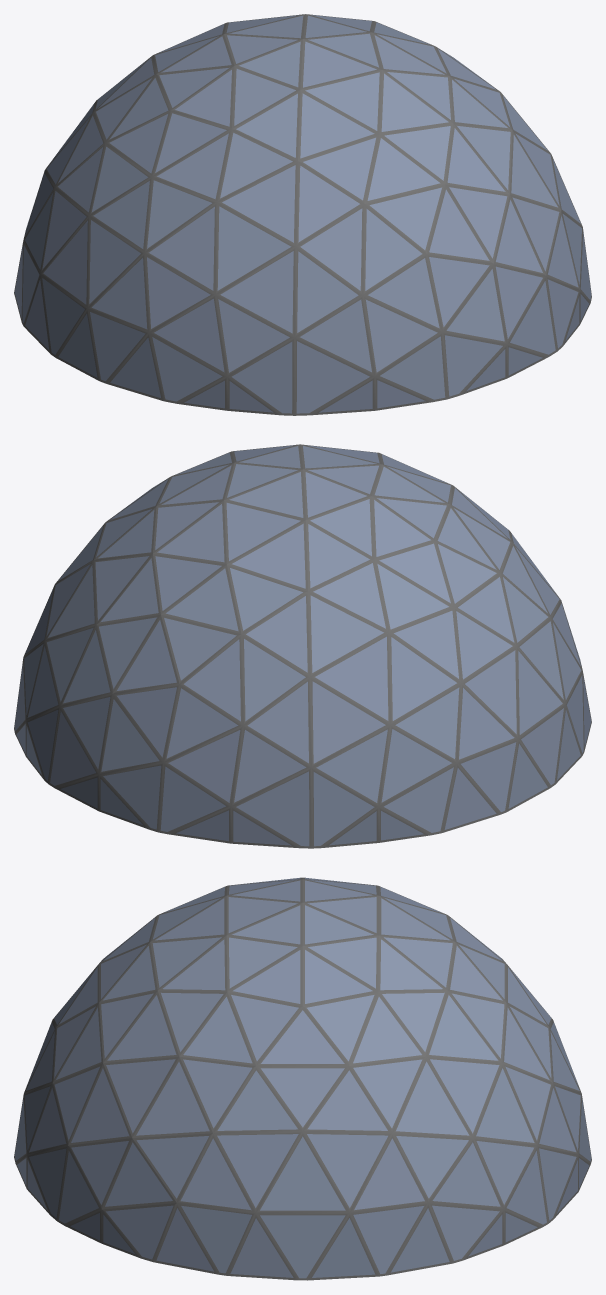
File: MOD_Dome.fbx
3 renders of one model, top to bottom at view 1: azimuth 30°, elevation 25°; view 2: azimuth 150°, elevation 25°; view 3: azimuth 270°, elevation 25°, orthographic.
Visible parts, largest first — view 1: MOD_Dome; view 2: MOD_Dome; view 3: MOD_Dome.
Part boxes in pixels (x1=…): MOD_Dome: x1=14, y1=14, x2=591, y2=415; MOD_Dome: x1=14, y1=444, x2=591, y2=848; MOD_Dome: x1=14, y1=877, x2=591, y2=1280.
Size of the model in its own units: 9950 by 4890 by 9962.
